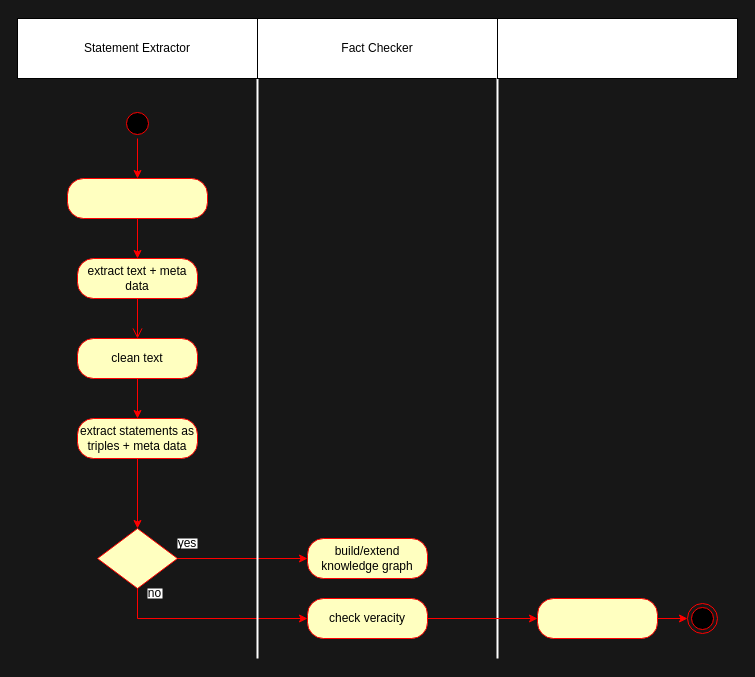
The diagram is 755 pixels wide and 677 high, and some of its shapes have lost their labels. Here are the shapes that lost their labels. From the top down, the box of each, then its label:
(496, 18, 738, 78): Judge
(66, 178, 208, 218): input media related to climate change
(96, 528, 178, 588): scientific source
(536, 598, 658, 638): calculate score
